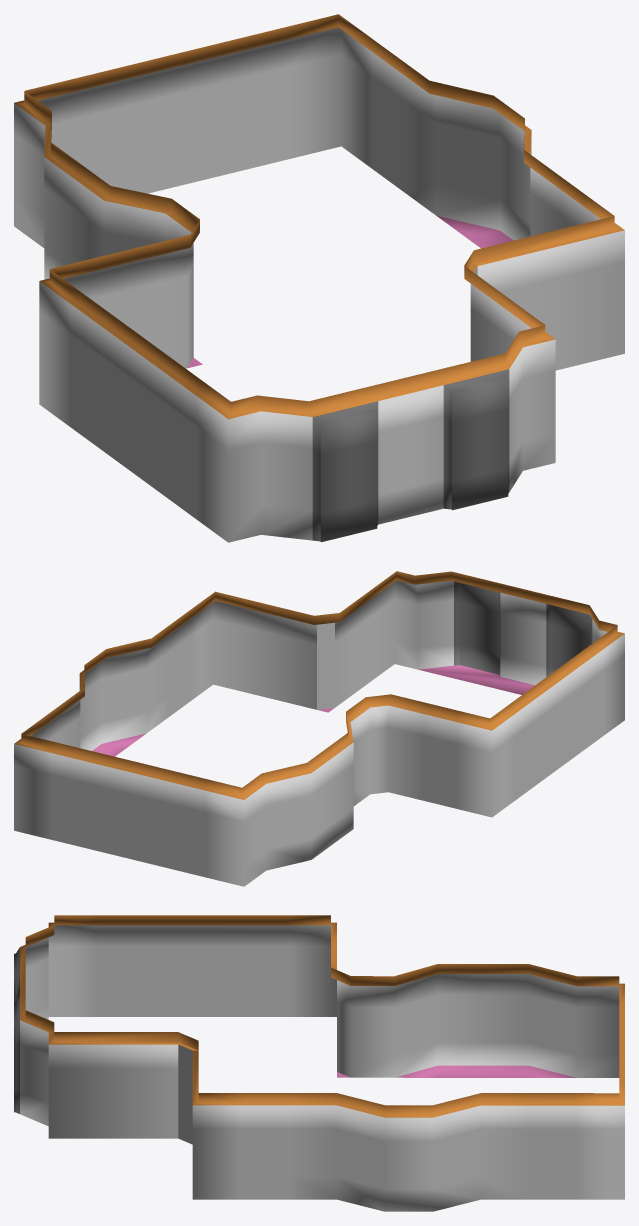
File: walltest.fbx
3 renders of one model, top to bottom at view 1: azimuth 30°, elevation 25°; view 2: azimuth 150°, elevation 25°; view 3: azimuth 270°, elevation 25°, orthographic. The views are drawn at different scales.
Parts seen in each view (by area): view 1: Plane.000; view 2: Plane.000; view 3: Plane.000.
Boxes of the visible parts, box(x1,y1,x2,y2) form: Plane.000: box(14, 14, 624, 542); Plane.000: box(14, 571, 624, 886); Plane.000: box(14, 915, 624, 1211).
Bounding box in the file's own units: 800 × 200 × 1060.
